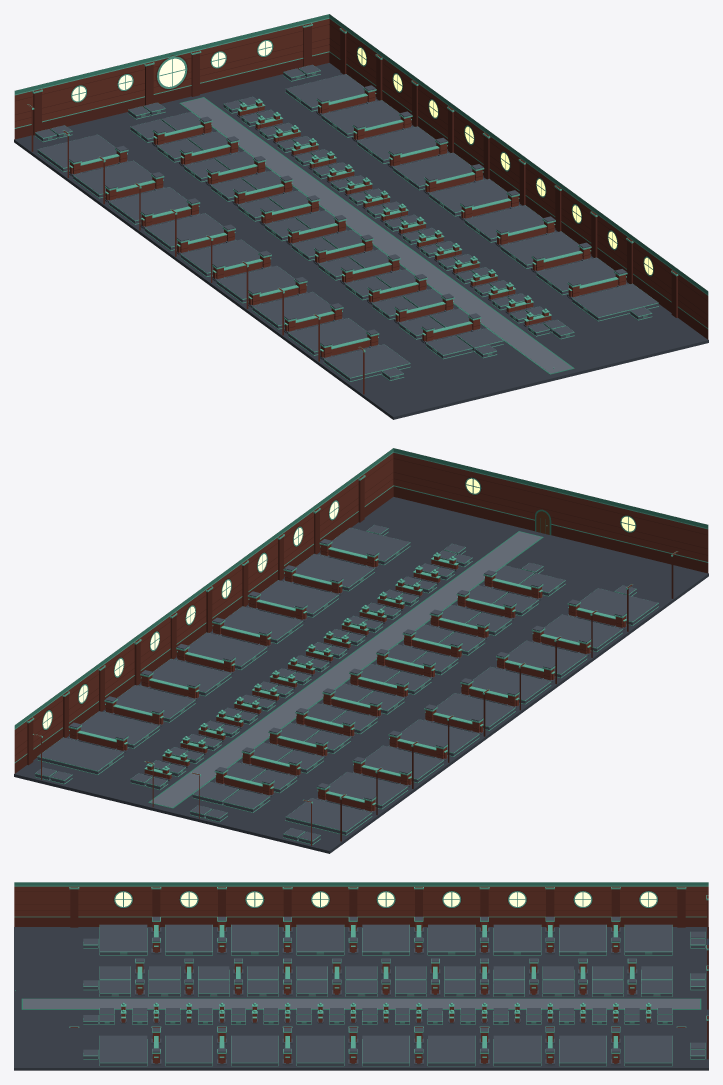
The model's file is room_hall.glb.
The picture shows the model from 3 angles, top to bottom: view 1: azimuth 30°, elevation 25°; view 2: azimuth 150°, elevation 25°; view 3: azimuth 270°, elevation 25°; orthographic projection. The views are drawn at different scales.
Visible parts, largest first — view 1: RoomHall, RoomHall_wall_right, RoomHall_wall_far, RoomHall_wall_left; view 2: RoomHall, RoomHall_wall_right, RoomHall_wall_near, RoomHall_wall_left; view 3: RoomHall, RoomHall_wall_left, RoomHall_wall_far.
Boxes of the visible parts, x1,y1,x2,y2 form: RoomHall: (14,63,708,419); RoomHall_wall_right: (329,14,708,339); RoomHall_wall_far: (14,14,329,139); RoomHall_wall_left: (27,104,365,394); RoomHall: (14,497,708,853); RoomHall_wall_right: (14,448,393,773); RoomHall_wall_near: (393,448,708,573); RoomHall_wall_left: (339,551,677,841); RoomHall: (14,916,708,1070); RoomHall_wall_left: (14,882,708,927); RoomHall_wall_far: (706,895,708,1059).
Bounding box in the file's own units: 40.7 × 6.35 × 84.7.
